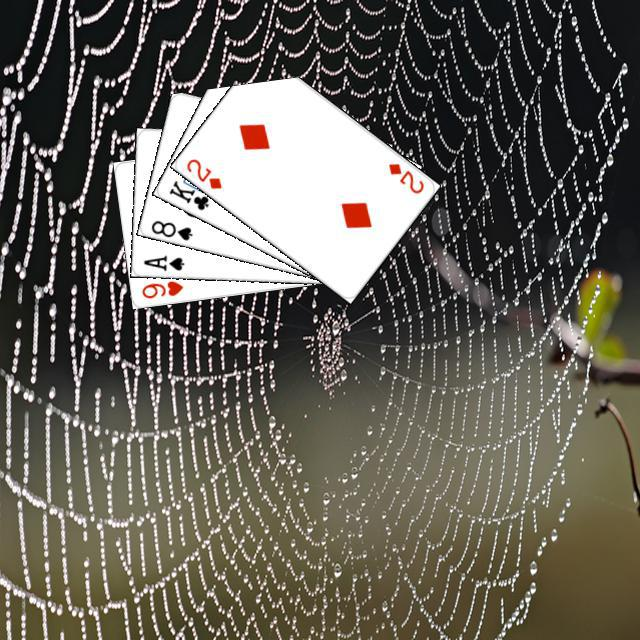2d: (181, 153, 223, 191), (383, 158, 426, 195)
8s: (146, 215, 194, 242)
9h: (137, 276, 185, 300)
As: (139, 250, 186, 273)
Kc: (164, 175, 219, 212)
